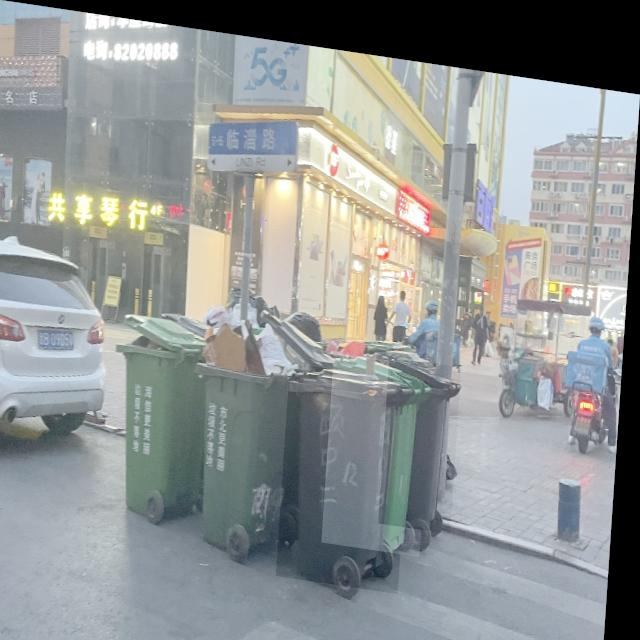garbage_bin: (283, 353, 416, 581), (328, 341, 437, 543), (385, 344, 465, 519)
overflow: (190, 272, 323, 552), (111, 306, 213, 519)
